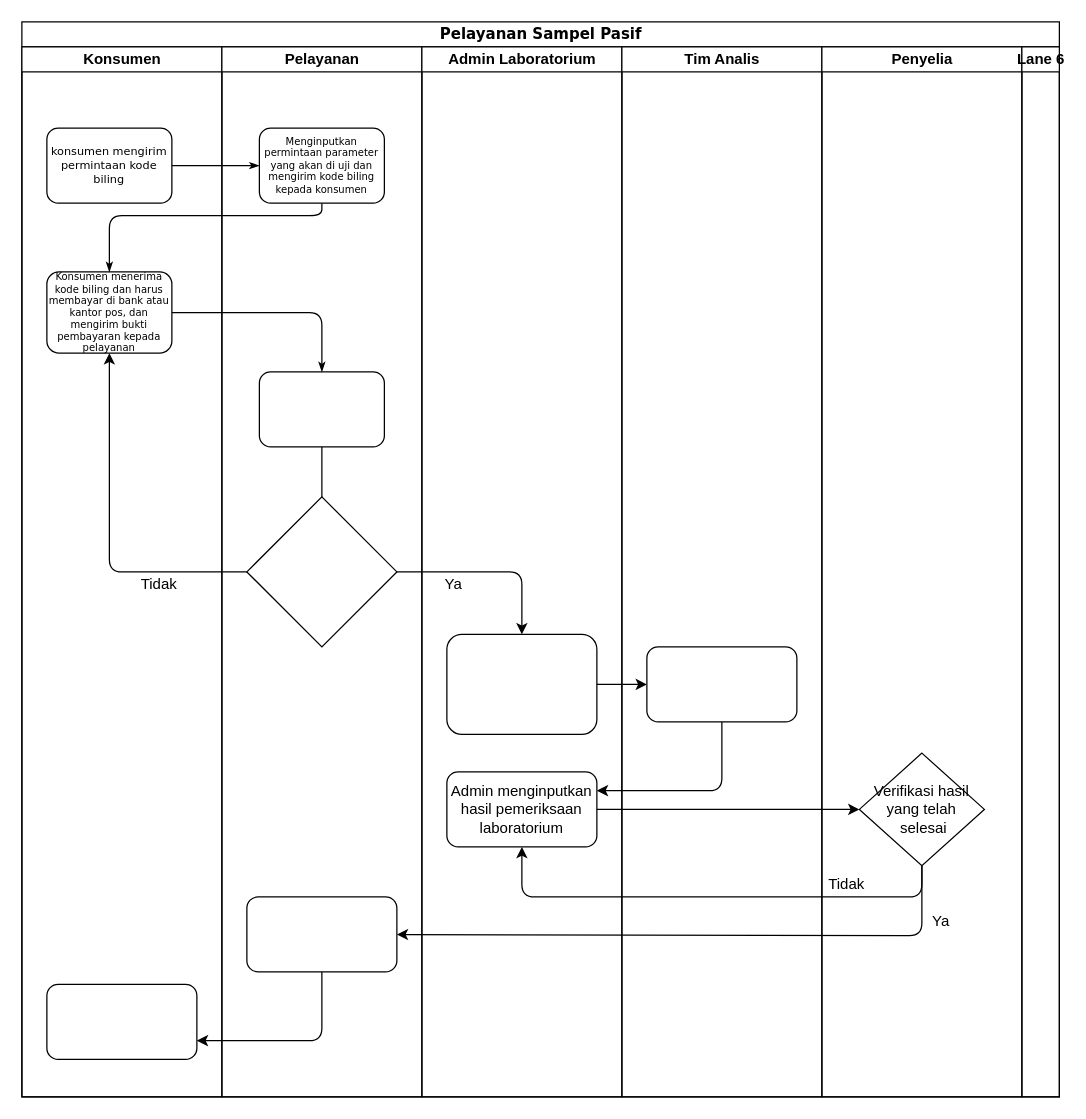
The diagram is 1086 pixels wide and 1119 high, and some of its shapes have lost their labels. Here are the shapes that lost their labels. From the top down, the centre of each, then its label:
At [321,409]: "Verifikasi pembayaran dan menerima contoh uji dan memberi No Sampel".
At [321,571]: "Distribusi sampel ke laboratorium yang di tuju".
At [521,683]: "Admin Laboratorium menerima sampel yang akan di uji dan di tujukan ke tim analis".
At [721,684]: "Tim analis menguji sampel".
At [321,934]: "Menghubungi konsumen bahwa hasil uji telah selesai".
At [121,1021]: "Menerima hasil contoh uji".
